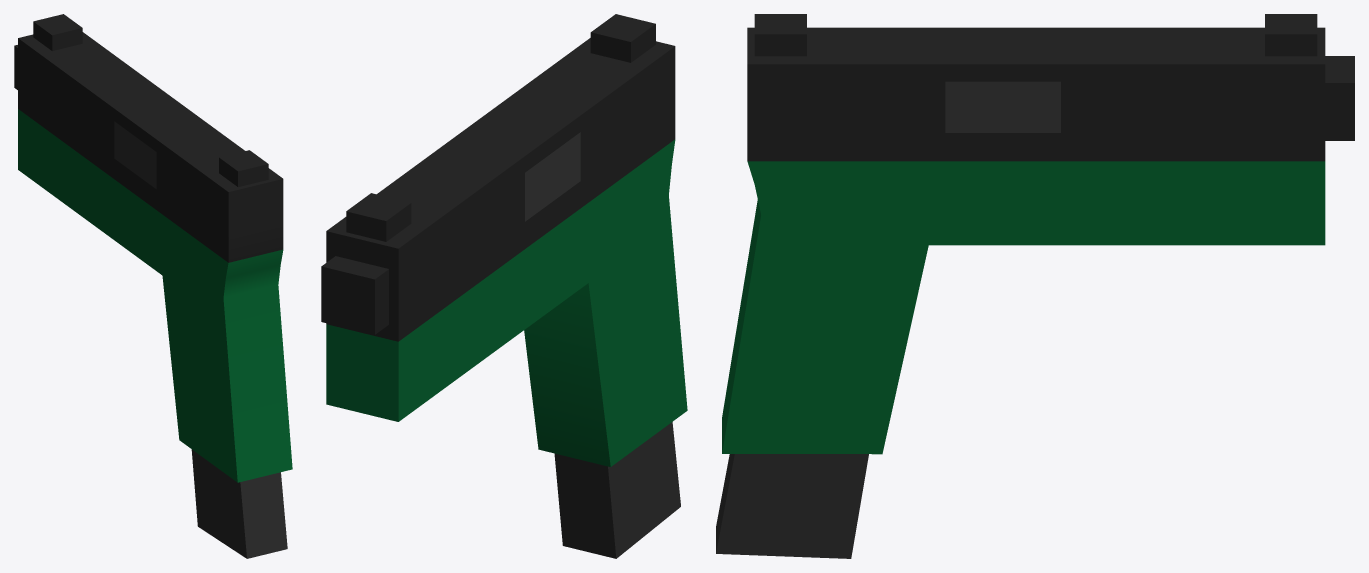
File: Unturned Cobra.fbx
The picture shows the model from 3 angles, left to right: view 1: azimuth 30°, elevation 25°; view 2: azimuth 150°, elevation 25°; view 3: azimuth 270°, elevation 25°; orthographic projection. The views are drawn at different scales.
Visible parts, largest first — view 1: polySurface8; view 2: polySurface8; view 3: polySurface8.
Part boxes in pixels (bbox=[...]): polySurface8: bbox=[14, 14, 292, 558]; polySurface8: bbox=[321, 14, 687, 558]; polySurface8: bbox=[716, 14, 1354, 558].
Bounding box in the file's own units: 1 × 6.61 × 7.34.
